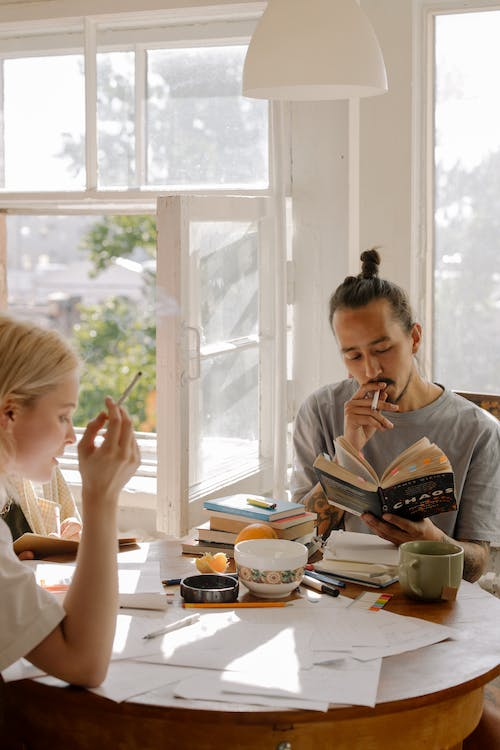cigarette: (113, 364, 144, 411), (367, 387, 383, 413)
